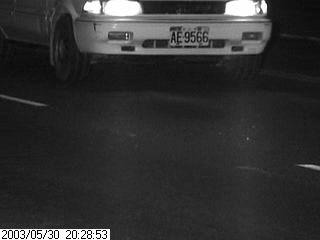plate: (168, 25, 210, 47)
